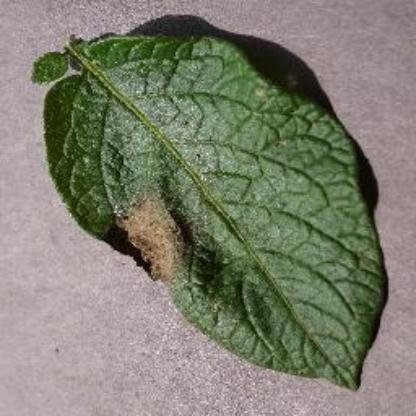Late-Blight: (38, 24, 388, 398)
